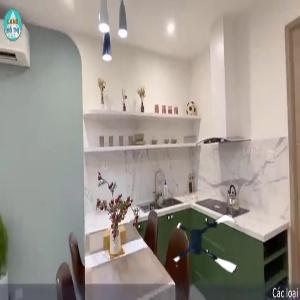drone: (173, 209, 247, 283)
